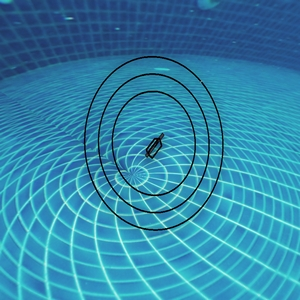circle: (86, 58, 223, 236)
submarine: (150, 135, 165, 160)
